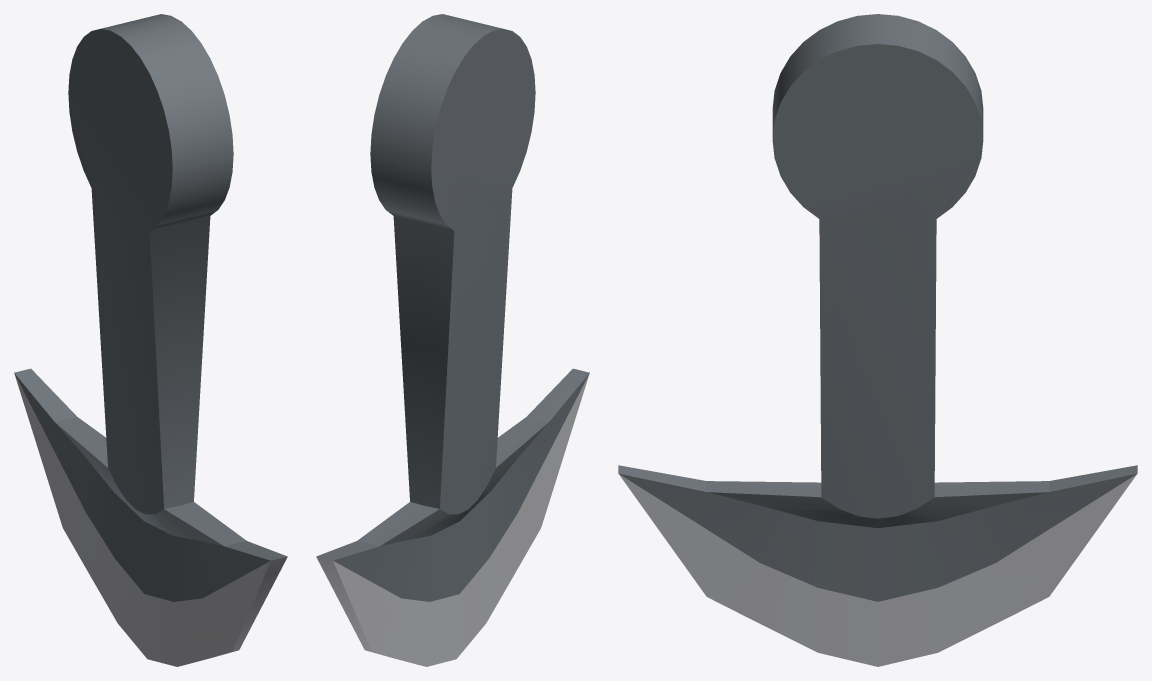
File: Bicak.fbx
The picture shows the model from 3 angles, left to right: view 1: azimuth 30°, elevation 25°; view 2: azimuth 150°, elevation 25°; view 3: azimuth 270°, elevation 25°; orthographic projection.
Visible parts, largest first — view 1: Bicak; view 2: Bicak; view 3: Bicak.
Boxes of the visible parts, box(x1,y1,x2,y2) form: Bicak: box(14, 14, 287, 666); Bicak: box(316, 14, 589, 666); Bicak: box(618, 14, 1137, 666).
Bounding box in the file's own units: 98.49 × 974 × 720.
